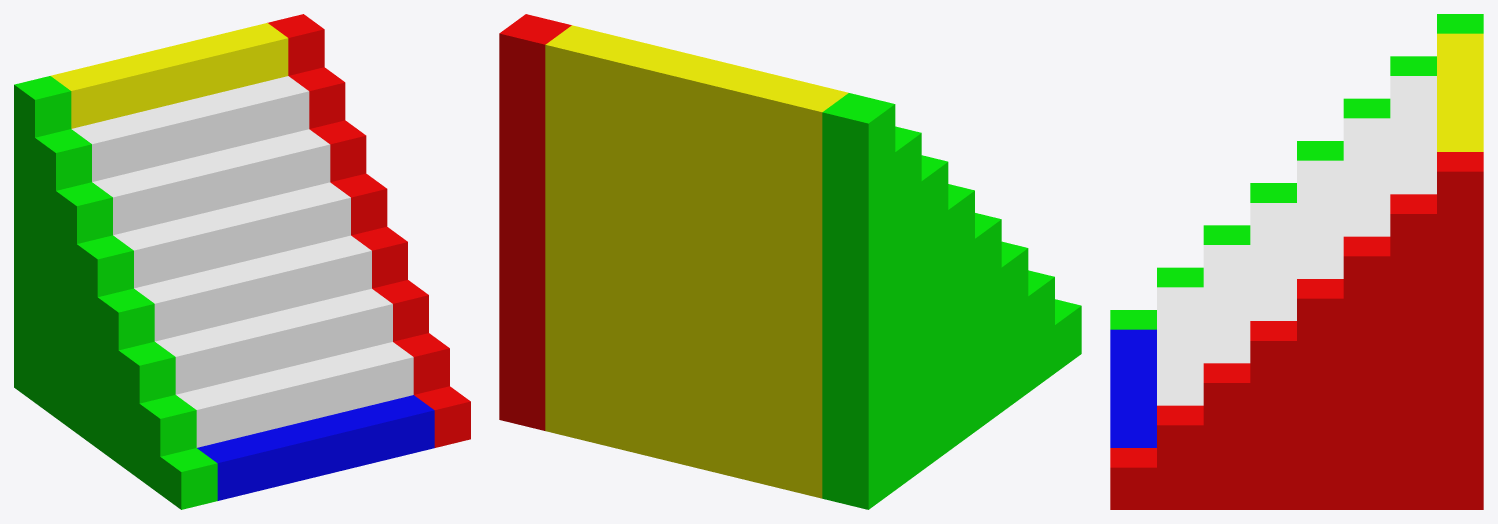
The model's file is 8voxCube.obj.
3 renders of one model, left to right at view 1: azimuth 30°, elevation 25°; view 2: azimuth 150°, elevation 25°; view 3: azimuth 270°, elevation 25°, orthographic. The views are drawn at different scales.
Size of the model in its own units: 0.8 by 0.8 by 0.8.
1 material, 1 textured.
